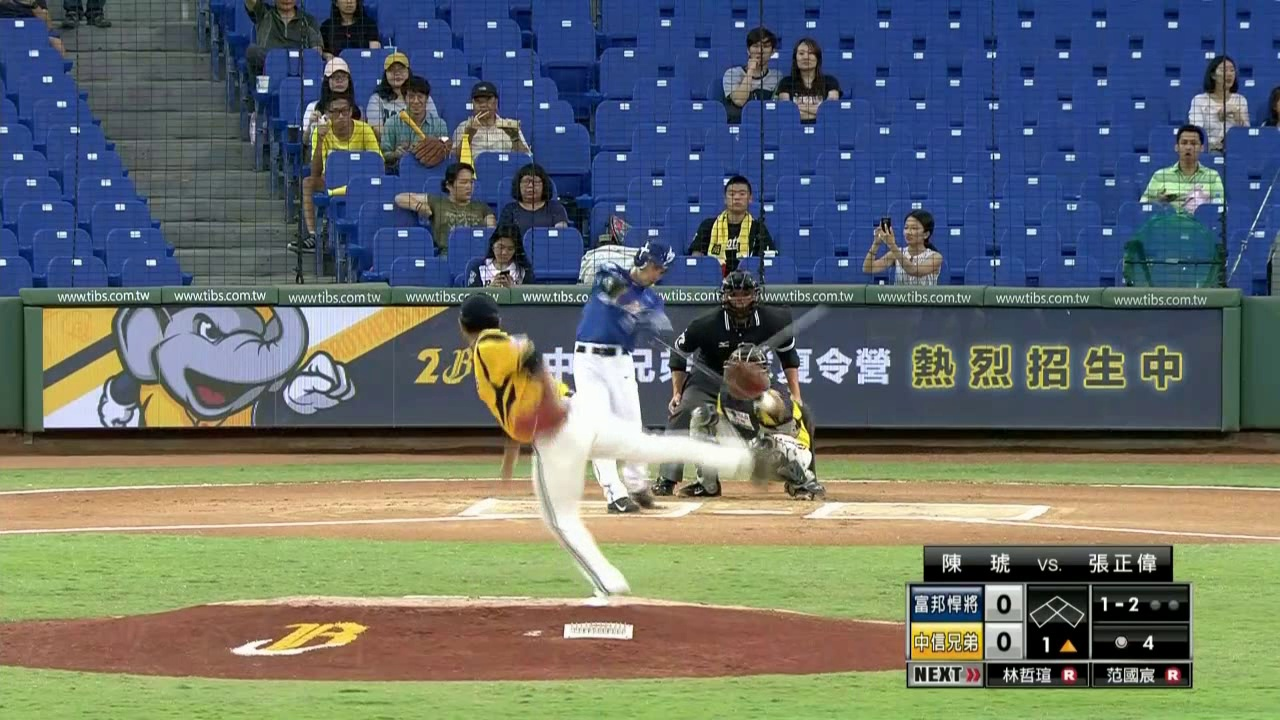ball: (816, 308, 825, 321)
base: (1025, 588, 1087, 630)
bat: (633, 314, 753, 396)
out: (1148, 591, 1187, 619)
score1: (993, 588, 1019, 621)
score2: (992, 628, 1016, 658)
session: (1027, 633, 1087, 656)
strikeball: (1094, 589, 1147, 619)
total: (1103, 624, 1162, 656)
